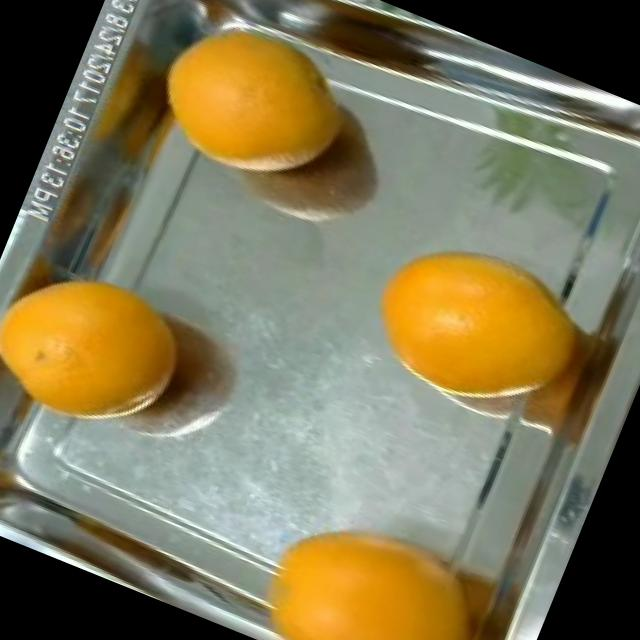Fruit: (342, 203, 590, 434), (122, 0, 381, 215), (0, 228, 223, 463), (0, 411, 59, 536)
